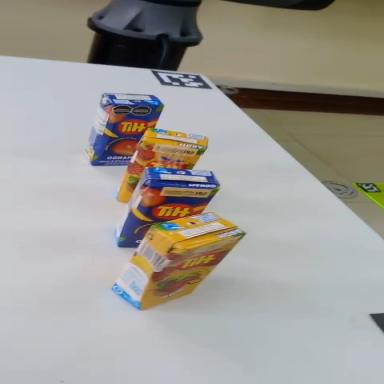HIT-MANGO: (92, 143, 227, 254), (88, 94, 163, 168)
HIT-MORA: (102, 184, 245, 331), (96, 108, 216, 206)
cara_F: (135, 212, 245, 328), (100, 158, 225, 256), (99, 118, 211, 206), (87, 86, 165, 183)
